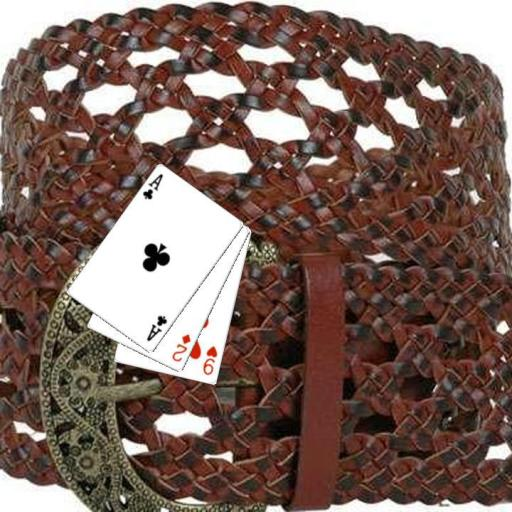2D: (169, 332, 192, 364)
9H: (200, 343, 219, 377)
AC: (139, 171, 165, 201), (143, 312, 168, 343)
